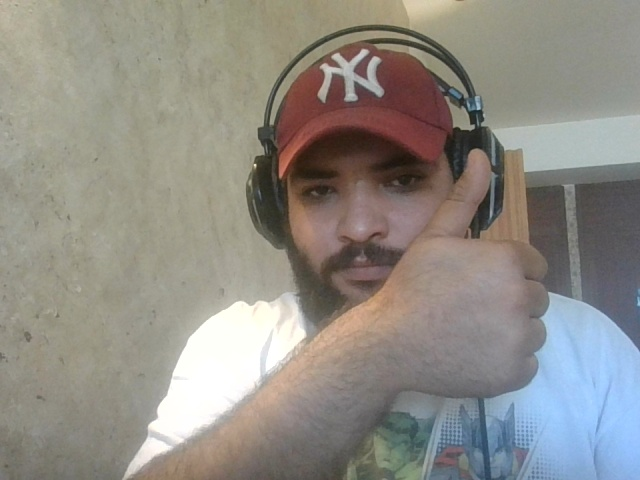yes: (371, 147, 557, 416)
